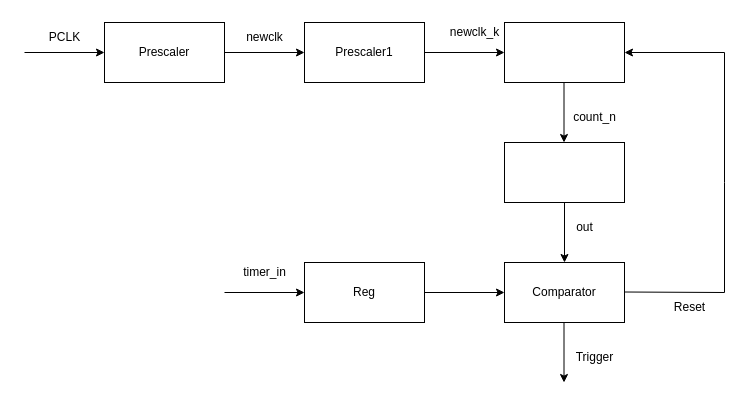
Some shapes in this 750 by 408 pixel diagram are drawn without their labels. Here are the shapes that lost their labels. From the top down, the centre of each, then its label:
At (x=564, y=52): "Counter".
At (x=564, y=172): "Register".
